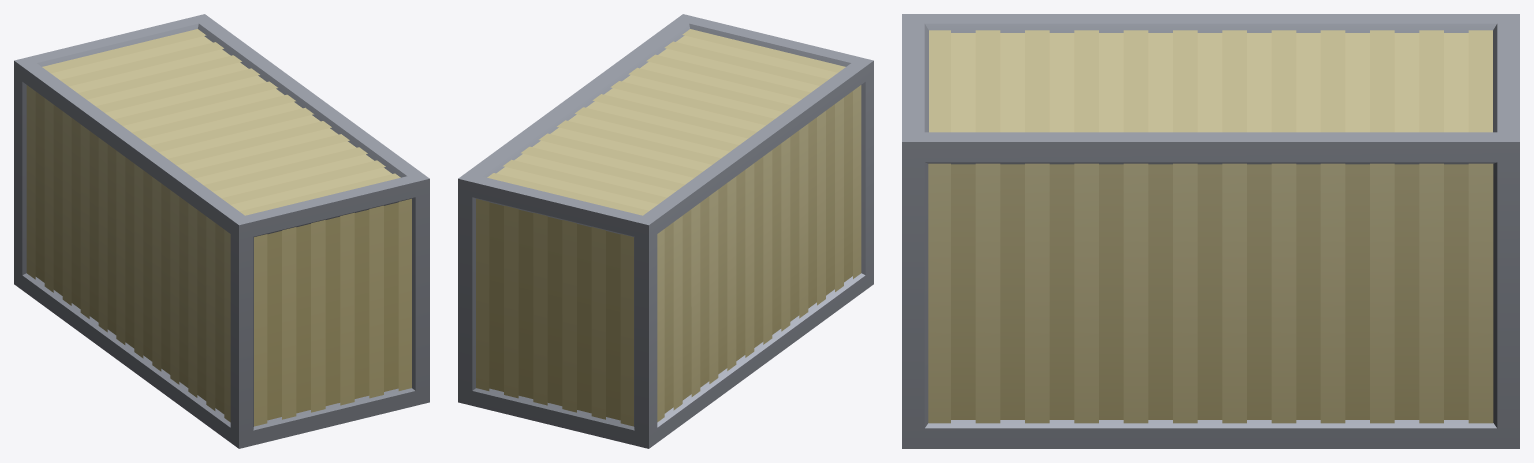
Rendered from Shipping_Container_A.fbx.
The picture shows the model from 3 angles, left to right: view 1: azimuth 30°, elevation 25°; view 2: azimuth 150°, elevation 25°; view 3: azimuth 270°, elevation 25°; orthographic projection. The views are drawn at different scales.
Visible parts, largest first — view 1: Shipping_Container_A; view 2: Shipping_Container_A; view 3: Shipping_Container_A.
Boxes of the visible parts, <box> form: Shipping_Container_A: <box>14,14,429,448</box>; Shipping_Container_A: <box>458,14,873,448</box>; Shipping_Container_A: <box>902,14,1519,448</box>.
Size of the model in its own units: 234 by 262 by 478.
